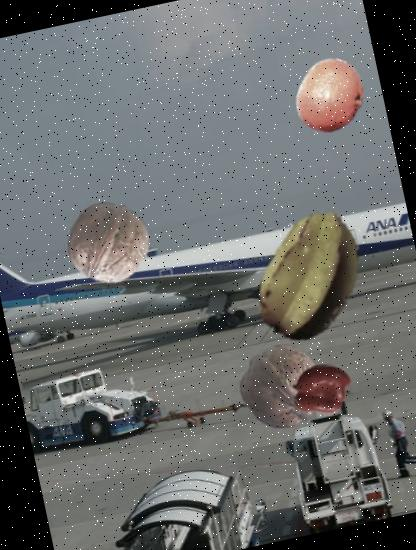Carambula: (232, 198, 390, 357)
Clementine: (283, 50, 376, 144)
Pepper: (287, 356, 355, 423)
Walnut: (231, 336, 333, 438), (59, 193, 159, 293)
